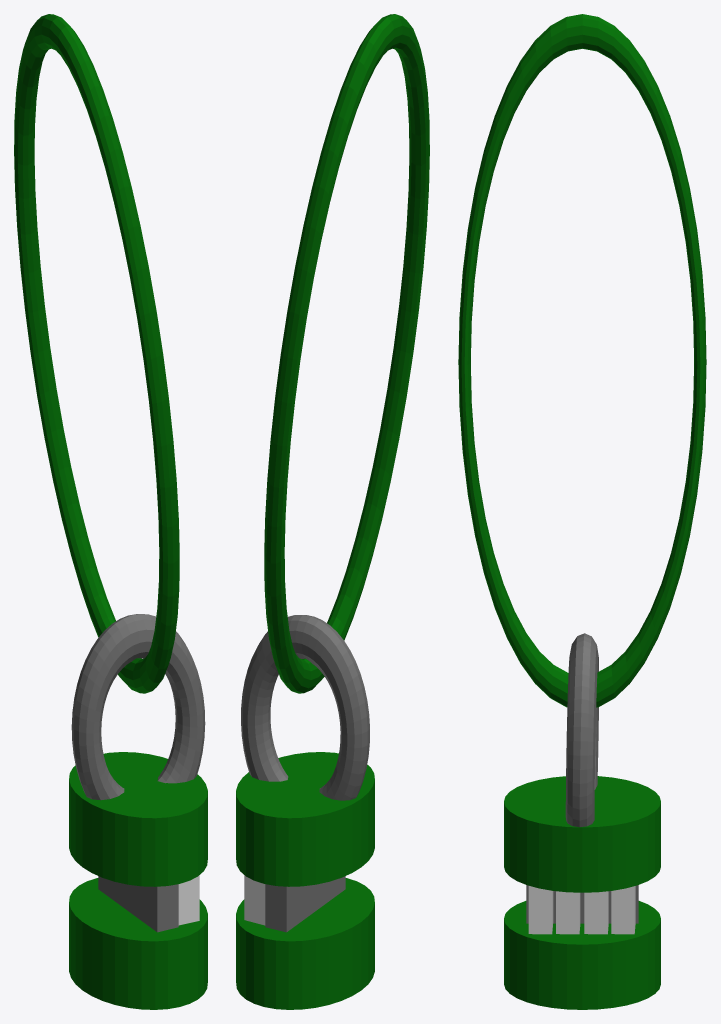
File: greenlock4.fbx
3 renders of one model, left to right at view 1: azimuth 30°, elevation 25°; view 2: azimuth 150°, elevation 25°; view 3: azimuth 270°, elevation 25°, orthographic. The views are drawn at different scales.
Parts seen in each view (by area): view 1: Torus.002, Cylinder, Cylinder.001, Torus.001, Cube.002, Cube.003; view 2: Torus.002, Cylinder, Cylinder.001, Torus.001, Cube.002, Cube.001; view 3: Torus.002, Cylinder, Cylinder.001, Torus.001, Cube.003, Cube.001, Cube.005, Cube.004, Cube.002.
Boxes of the visible parts, x1,y1,x2,y2 form: Torus.002: (14, 14, 179, 693); Cylinder: (69, 752, 207, 886); Cylinder.001: (69, 878, 207, 1009); Torus.001: (71, 614, 205, 800); Cube.002: (98, 876, 178, 932); Cube.003: (178, 875, 199, 925); Torus.002: (264, 14, 429, 693); Cylinder: (236, 752, 374, 886); Cylinder.001: (236, 878, 374, 1009); Torus.001: (241, 615, 369, 800); Cube.002: (265, 876, 345, 932); Cube.001: (244, 875, 265, 925); Torus.002: (458, 14, 706, 707); Cylinder: (504, 776, 660, 892); Cylinder.001: (504, 901, 660, 1009); Torus.001: (565, 633, 598, 827); Cube.003: (528, 886, 553, 934); Cube.001: (611, 886, 635, 934); Cube.005: (584, 891, 608, 934); Cube.004: (556, 891, 580, 934); Cube.002: (526, 885, 638, 923).
Bounding box in the file's own units: 34.79 × 213 × 51.42.
